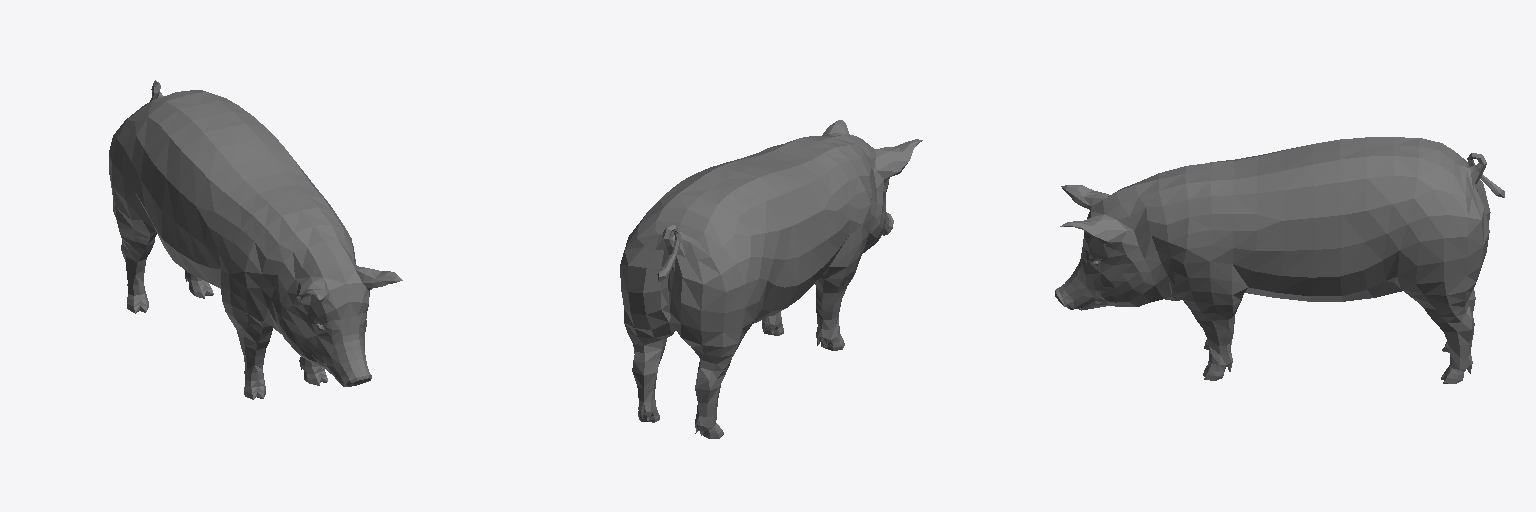
The model's file is Pig.obj.
3 renders of one model, left to right at view 1: azimuth 30°, elevation 25°; view 2: azimuth 150°, elevation 25°; view 3: azimuth 270°, elevation 25°, orthographic.
Parts seen in each view (by area): view 1: Mesh_1244_Mesh; view 2: Mesh_1244_Mesh; view 3: Mesh_1244_Mesh.
Part boxes in pixels (left/top/right/bottom): Mesh_1244_Mesh: left=109, top=80, right=402, bottom=399; Mesh_1244_Mesh: left=620, top=120, right=922, bottom=438; Mesh_1244_Mesh: left=1055, top=137, right=1504, bottom=383.
Size of the model in its own units: 0.5049 by 0.8432 by 1.57.